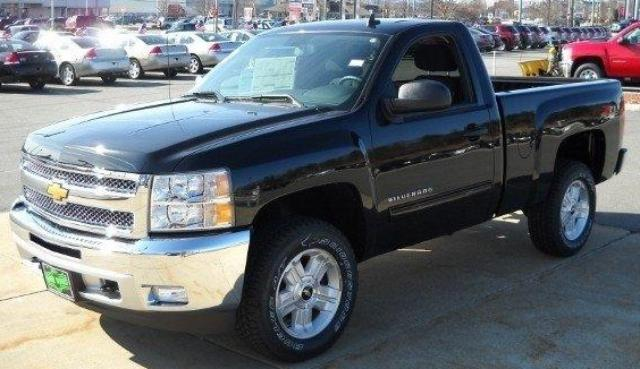pickup-truck: (7, 16, 629, 363)
